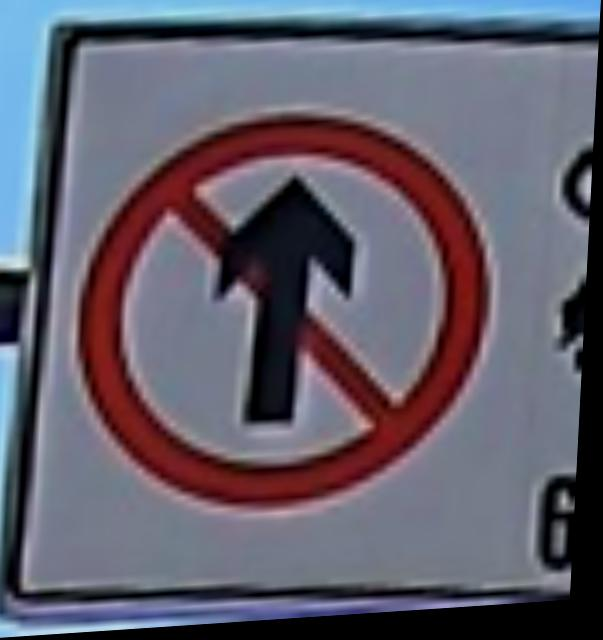not_go_straight: (69, 92, 518, 528)
